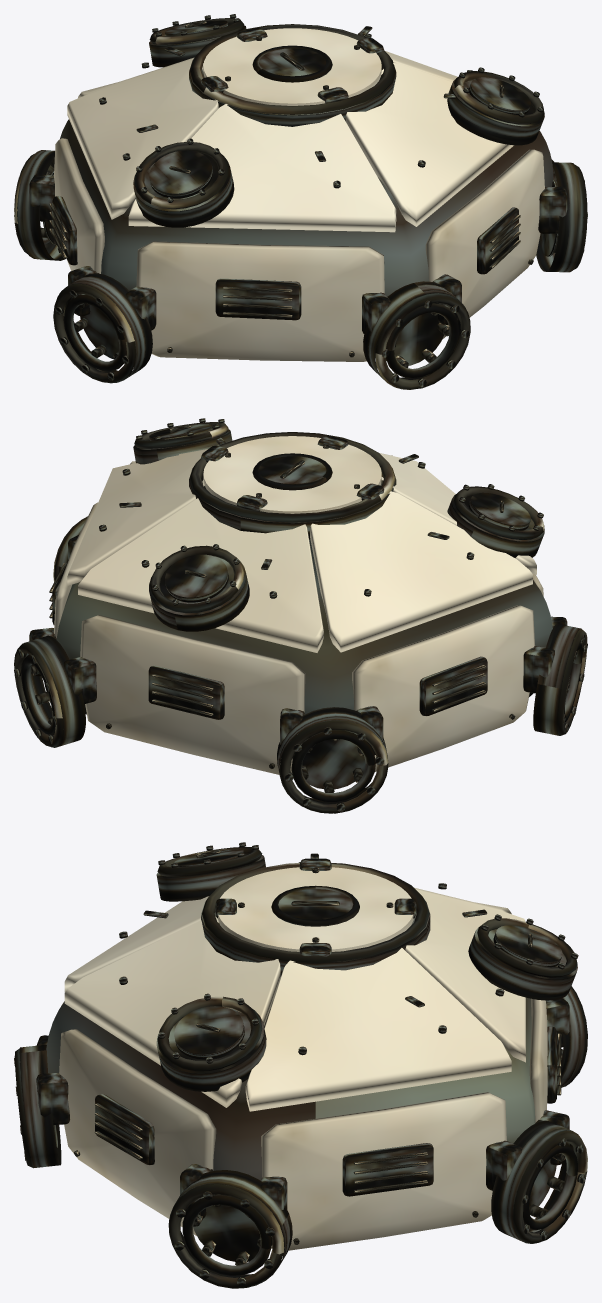
Rendered from body-sentinel-astra-polish-v3.glb.
3 views of the same model, one above another, from view 1: azimuth 30°, elevation 25°; view 2: azimuth 150°, elevation 25°; view 3: azimuth 270°, elevation 25° (orthographic). The views are drawn at different scales.
Parts seen in each view (by area): view 1: sentinel-detail-ceramic, sentinel-detail-metal, sentinel-detail-brass, sentinel-steel; view 2: sentinel-detail-ceramic, sentinel-detail-metal, sentinel-detail-brass, sentinel-steel; view 3: sentinel-detail-ceramic, sentinel-detail-metal, sentinel-detail-brass, sentinel-steel.
Boxes of the visible parts, x1,y1,x2,y2 form: sentinel-detail-ceramic: (54, 28, 544, 361); sentinel-detail-metal: (14, 14, 587, 389); sentinel-detail-brass: (14, 18, 587, 389); sentinel-steel: (60, 119, 553, 296); sentinel-detail-ceramic: (54, 436, 543, 774); sentinel-detail-metal: (14, 418, 587, 813); sentinel-detail-brass: (14, 422, 587, 813); sentinel-steel: (56, 539, 552, 714); sentinel-detail-ceramic: (59, 867, 547, 1250); sentinel-detail-metal: (14, 842, 585, 1288); sentinel-detail-brass: (14, 847, 587, 1288); sentinel-steel: (46, 997, 535, 1184).
Size of the model in its own units: 1.73 by 0.766 by 1.51.
Materials: 4 (4 with a texture image).
